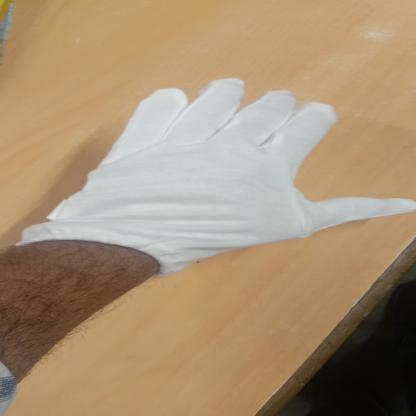gloved_hand: (0, 76, 414, 270)
